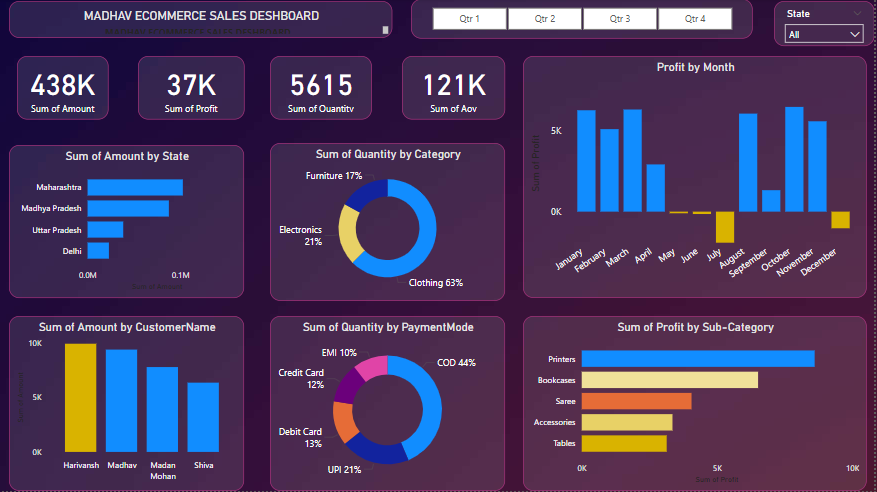

The dashboard page shown, as its layout file describes it:
{"tool":"powerbi","page":{"name":"Page 1","canvas":[1280,720],"ordinal":0},"visuals":[{"type":"textbox","title":"MADHAV ECOMMERCE SALES DESHBOARD","box":[13.6,3.4,561,54.2],"z":0},{"type":"columnChart","title":"Profit by Month","fields":{"Y":["Details.Profit"],"Category":["Orders.Order Date.Variation.Date Hierarchy.Month"]},"box":[765.4,83.4,503.4,354.1],"z":1000},{"type":"barChart","fields":{"Category":["Details.Sub-Category"],"Y":["Details.Profit"]},"box":[765.4,463.9,503.4,256.1],"z":2000},{"type":"donutChart","fields":{"Category":["Details.Category"],"Y":["Details.Quantity"]},"box":[394.9,210.2,344.1,230.5],"z":3000},{"type":"donutChart","fields":{"Y":["Details.Quantity"],"Category":["Details.PaymentMode"]},"box":[394.9,464.4,344.1,255.9],"z":4000},{"type":"card","fields":{"Values":["Details.Amount"]},"box":[25.4,83.1,133.9,93.2],"z":5000},{"type":"card","fields":{"Values":["Details.Quantity"]},"box":[394.9,83.1,149.2,93.2],"z":6000},{"type":"card","fields":{"Values":["Details.Aov"]},"box":[588.1,83.1,150.8,93.2],"z":7000},{"type":"card","fields":{"Values":["Details.Profit"]},"box":[201.7,83.1,155.9,93.2],"z":8000},{"type":"barChart","fields":{"Category":["Orders.State"],"Y":["Details.Amount"]},"box":[13.6,213.6,344.1,223.7],"z":9000},{"type":"columnChart","fields":{"Category":["Orders.CustomerName"],"Y":["Details.Amount"]},"box":[13.6,464.4,344.1,255.9],"z":10000},{"type":"slicer","fields":{"Values":["Orders.State"]},"box":[1132.2,3.4,147.5,66.1],"z":11000},{"type":"slicer","fields":{"Values":["Orders.Order Date.Variation.Date Hierarchy.Quarter"]},"box":[601.7,0,500,57.6],"z":12000}]}

Visuals, with their boxes in screenshot pixels (x1, y1, x2, y2), scaled from the page's 1280x720 canvas onto the 877x492 screenshot:
"MADHAV ECOMMERCE SALES DESHBOARD" textbox: x1=9, y1=2, x2=394, y2=39
"Profit by Month" columnChart: x1=524, y1=57, x2=869, y2=299
barChart - Details.Sub-Category x Details.Profit: x1=524, y1=317, x2=869, y2=491
donutChart - Details.Category x Details.Quantity: x1=271, y1=144, x2=506, y2=301
donutChart - Details.Quantity x Details.PaymentMode: x1=271, y1=317, x2=506, y2=491
card - Details.Amount: x1=17, y1=57, x2=109, y2=120
card - Details.Quantity: x1=271, y1=57, x2=373, y2=120
card - Details.Aov: x1=403, y1=57, x2=506, y2=120
card - Details.Profit: x1=138, y1=57, x2=245, y2=120
barChart - Orders.State x Details.Amount: x1=9, y1=146, x2=245, y2=299
columnChart - Orders.CustomerName x Details.Amount: x1=9, y1=317, x2=245, y2=491
slicer - Orders.State: x1=776, y1=2, x2=876, y2=47
slicer - Orders.Order Date.Variation.Date Hierarchy.Quarter: x1=412, y1=0, x2=755, y2=39
